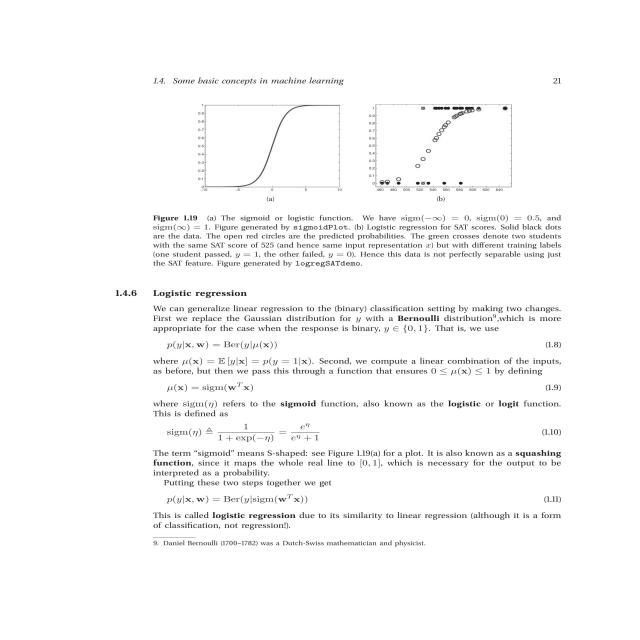diagram: (165, 74, 531, 200)
